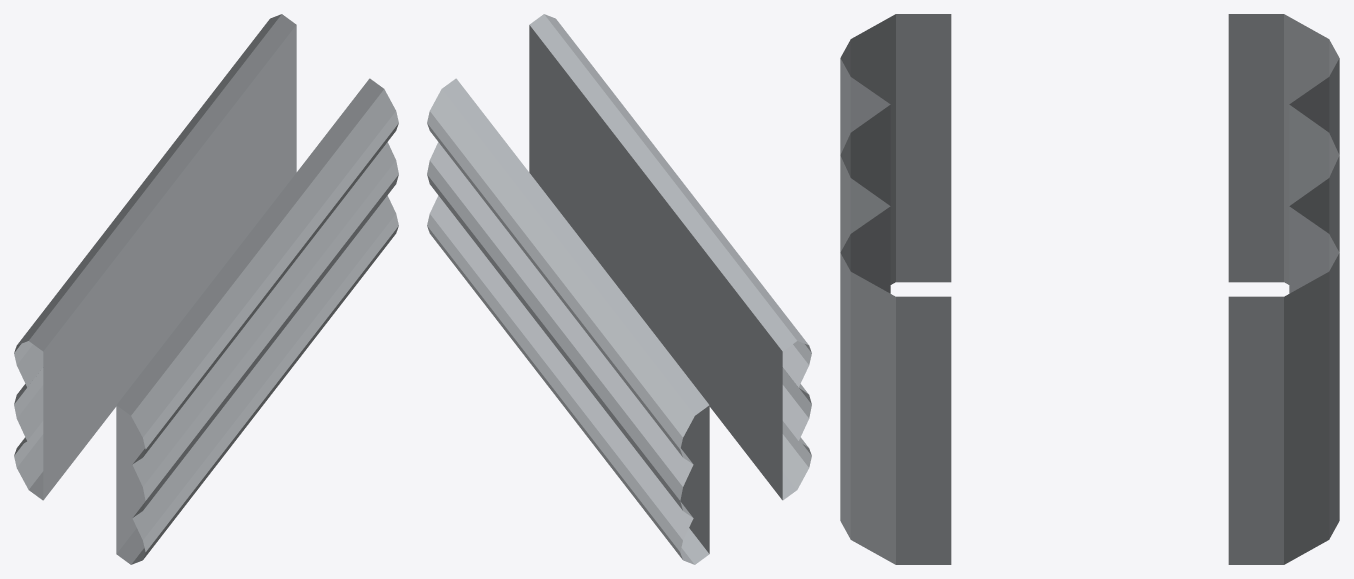
File: guardrail_thrie_beam_wood_double_core_up.obj
3 renders of one model, left to right at view 1: azimuth 30°, elevation 25°; view 2: azimuth 150°, elevation 25°; view 3: azimuth 270°, elevation 25°, orthographic. The views are drawn at different scales.
Visible parts, largest first — view 1: guardrail_thrie_beam_wood_double_core_up; view 2: guardrail_thrie_beam_wood_double_core_up; view 3: guardrail_thrie_beam_wood_double_core_up.
Boxes of the visible parts, x1,y1,x2,y2 form: guardrail_thrie_beam_wood_double_core_up: [14, 14, 398, 564]; guardrail_thrie_beam_wood_double_core_up: [427, 14, 811, 564]; guardrail_thrie_beam_wood_double_core_up: [840, 14, 1339, 564].
Bounding box in the file's own units: 1 × 1.56 × 0.9.
